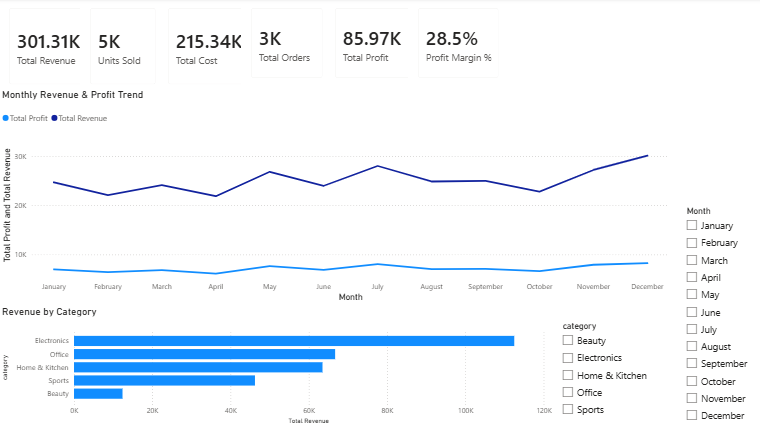

The dashboard page shown, as its layout file describes it:
{"tool":"powerbi","page":{"name":"Sales & Profitability Overview","canvas":[1280,720],"ordinal":0},"visuals":[{"type":"cardVisual","fields":{"Data":["_Measures.Total Revenue"]},"box":[0,0,280.5,162.9],"z":0},{"type":"cardVisual","fields":{"Data":["_Measures.Total Cost"]},"box":[267.1,0,280.5,162.9],"z":1000},{"type":"cardVisual","fields":{"Data":["_Measures.Total Profit"]},"box":[547.6,0,161.3,151.2],"z":2000},{"type":"cardVisual","fields":{"Data":["_Measures.Profit Margin %"]},"box":[687,0,169.7,151.2],"z":3000},{"type":"cardVisual","fields":{"Data":["_Measures.Total Orders"]},"box":[406.5,0,154.5,151.2],"z":4000},{"type":"cardVisual","fields":{"Data":["_Measures.Units Sold"]},"box":[136.1,0,144.5,162.9],"z":5000},{"type":"lineChart","fields":{"Y":["_Measures.Total Profit","_Measures.Total Revenue"],"Category":["sales.order_date"]},"box":[0,134.4,688.7,381.3],"z":6000},{"type":"clusteredBarChart","fields":{"Category":["products.category","sales.category"],"Y":["_Measures.Total Revenue"]},"box":[688.7,134.4,591.3,586.2],"z":7000},{"type":"slicer","fields":{"Values":["sales.order_date"]},"box":[856.7,23.5,423.3,162.9],"z":8000},{"type":"slicer","fields":{"Values":["products.category"]},"box":[0,537.5,208.3,183.1],"z":9000}]}

Visuals, with their boxes in screenshot pixels (x1, y1, x2, y2), scaled from the page's 1280x720 canvas onto the 760x426 screenshot:
cardVisual - _Measures.Total Revenue: (x1=0, y1=0, x2=167, y2=96)
cardVisual - _Measures.Total Cost: (x1=159, y1=0, x2=325, y2=96)
cardVisual - _Measures.Total Profit: (x1=325, y1=0, x2=421, y2=89)
cardVisual - _Measures.Profit Margin %: (x1=408, y1=0, x2=509, y2=89)
cardVisual - _Measures.Total Orders: (x1=241, y1=0, x2=333, y2=89)
cardVisual - _Measures.Units Sold: (x1=81, y1=0, x2=167, y2=96)
lineChart - _Measures.Total Profit x _Measures.Total Revenue: (x1=0, y1=80, x2=409, y2=305)
clusteredBarChart - products.category x sales.category: (x1=409, y1=80, x2=759, y2=425)
slicer - sales.order_date: (x1=509, y1=14, x2=759, y2=110)
slicer - products.category: (x1=0, y1=318, x2=124, y2=425)
